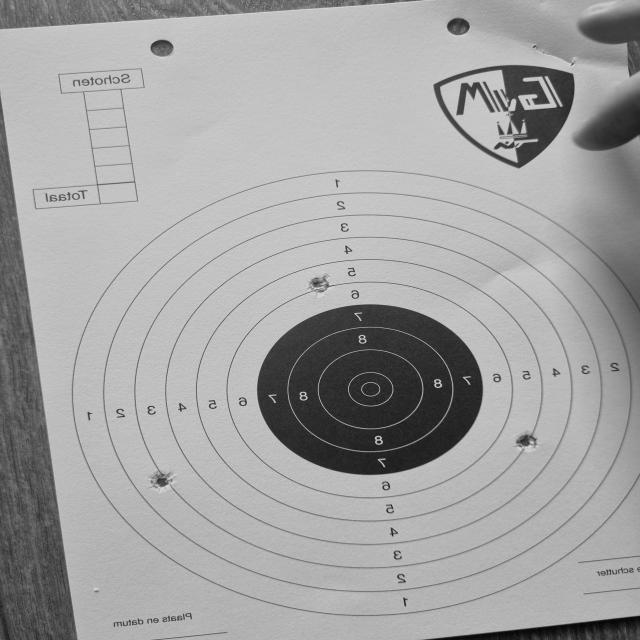3: (148, 472, 174, 492)
5: (511, 432, 540, 450)
6: (307, 274, 336, 295)
Target: (68, 168, 639, 617)
black_contour: (255, 304, 482, 475)
